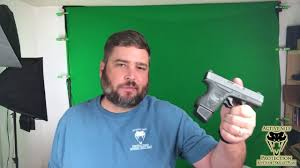Gun: (203, 72, 264, 116)
